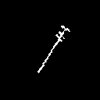treble_crochet: (38, 26, 69, 72)
